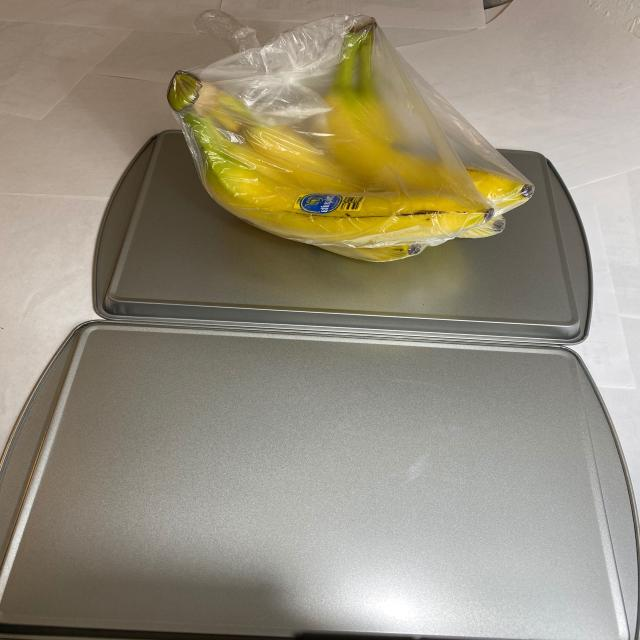banana: (139, 18, 536, 267)
